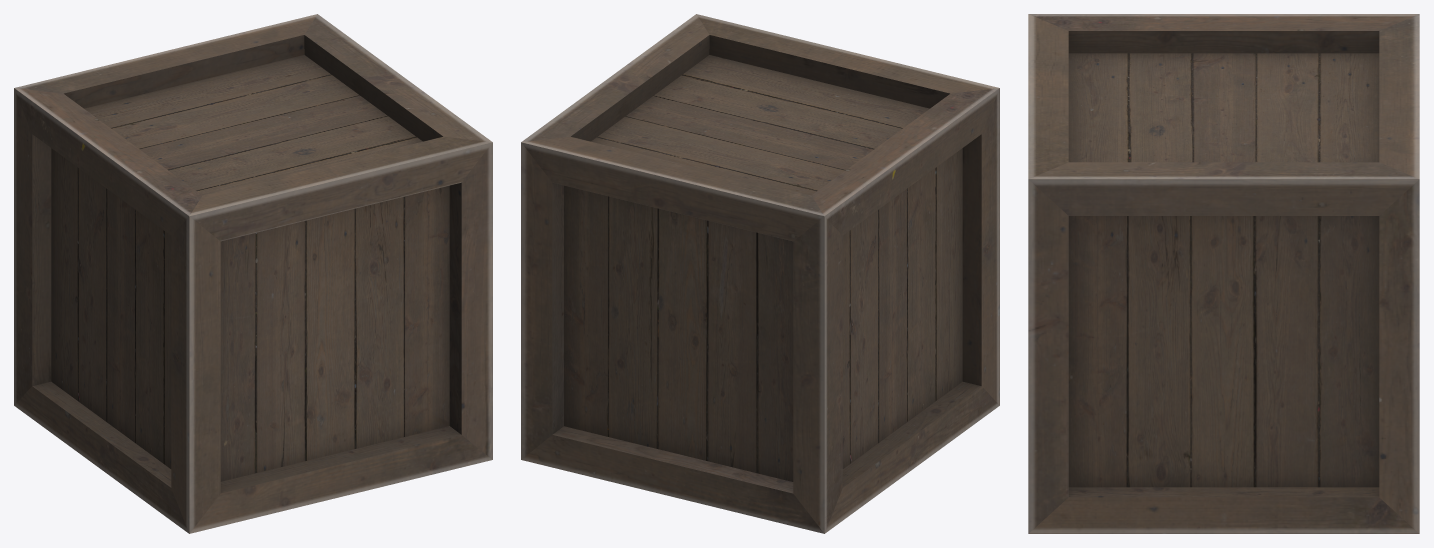
The model's file is Crate01.obj.
3 renders of one model, left to right at view 1: azimuth 30°, elevation 25°; view 2: azimuth 150°, elevation 25°; view 3: azimuth 270°, elevation 25°, orthographic. The views are drawn at different scales.
Parts seen in each view (by area): view 1: Cube.001_Cube.004; view 2: Cube.001_Cube.004; view 3: Cube.001_Cube.004.
Boxes of the visible parts, box(x1,y1,x2,y2) form: Cube.001_Cube.004: box(14, 14, 492, 533); Cube.001_Cube.004: box(521, 14, 999, 533); Cube.001_Cube.004: box(1028, 14, 1419, 533).
Size of the model in its own units: 126 by 126 by 126.
